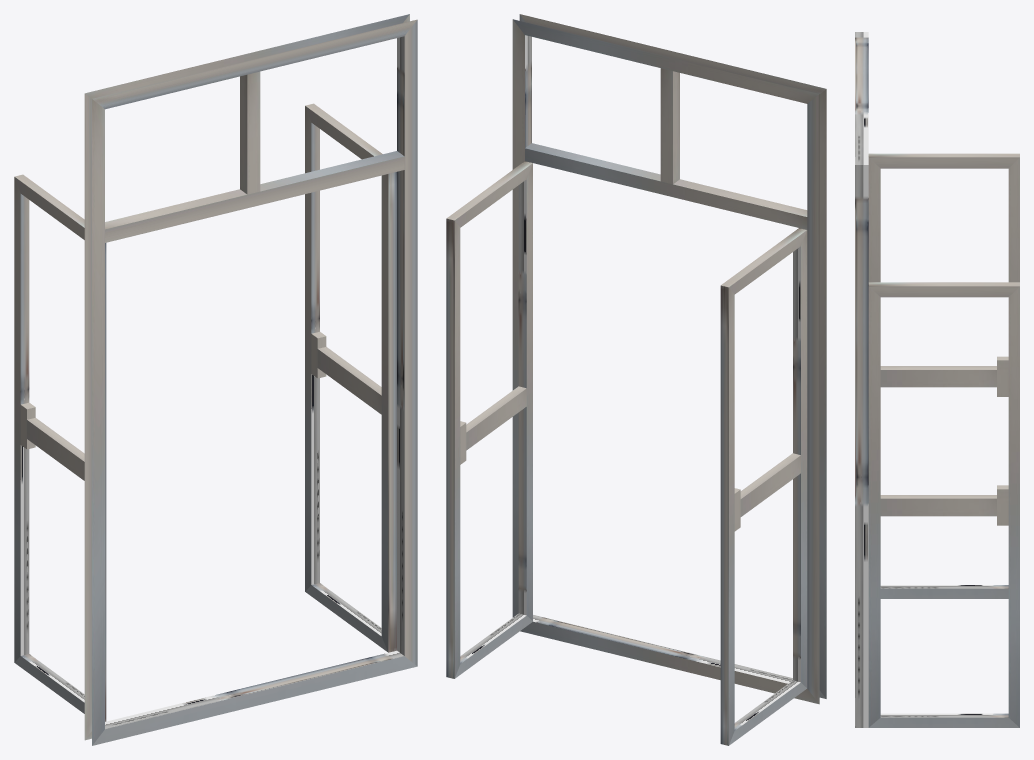
File: LouDao-39.FBX
3 renders of one model, left to right at view 1: azimuth 30°, elevation 25°; view 2: azimuth 150°, elevation 25°; view 3: azimuth 270°, elevation 25°, orthographic. The views are drawn at different scales.
Parts seen in each view (by area): view 1: LouDao-39; view 2: LouDao-39; view 3: LouDao-39.
Boxes of the visible parts, left/top/right/bottom form: LouDao-39: left=14, top=14, right=417, bottom=745; LouDao-39: left=446, top=14, right=826, bottom=745; LouDao-39: left=855, top=32, right=1019, bottom=727.
Size of the model in its own units: 1.5 by 2.85 by 0.7242.
1 material, 1 textured.
